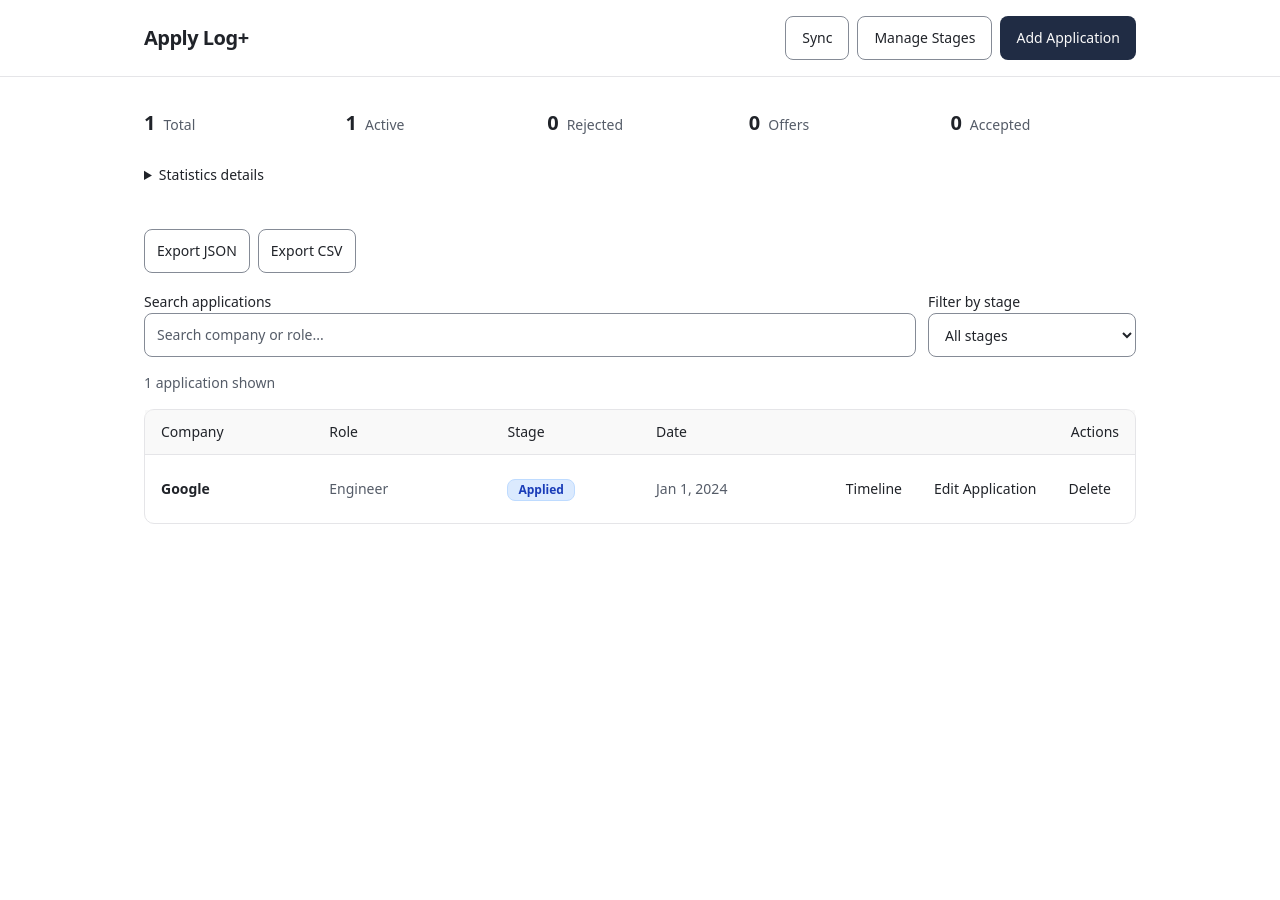
it: App › opens sync panel when sync button clicked
The width and height of the screenshot is (1280, 900).
Step 1. Click the button "Sync" → [817, 38], box [785,16,849,60]
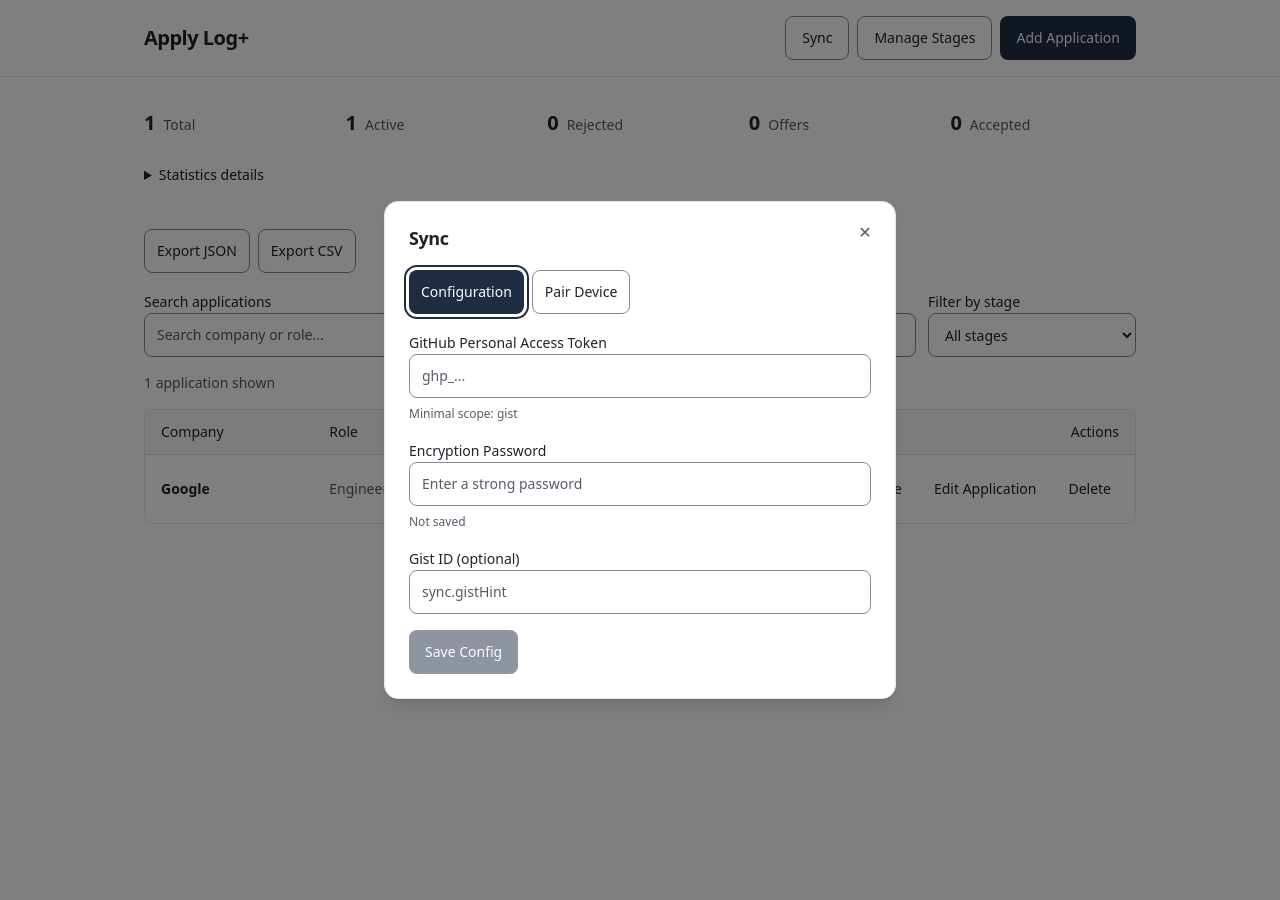
Expected: the button "Configuration" is shown, [409,270,524,314]
